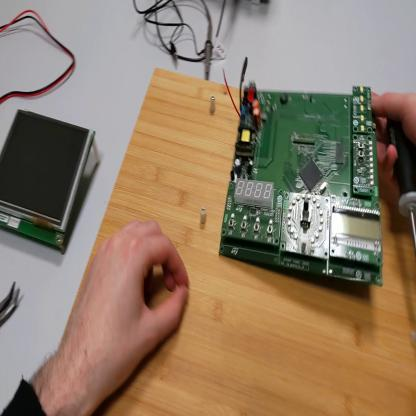hand: (61, 218, 190, 396), (372, 89, 416, 175)
low voltage board: (221, 55, 387, 282)
oscilloscope probe tip: (205, 12, 214, 82)
pliers: (1, 281, 21, 325)
screwdriver-: (387, 114, 416, 251)
working area: (71, 67, 416, 415)
